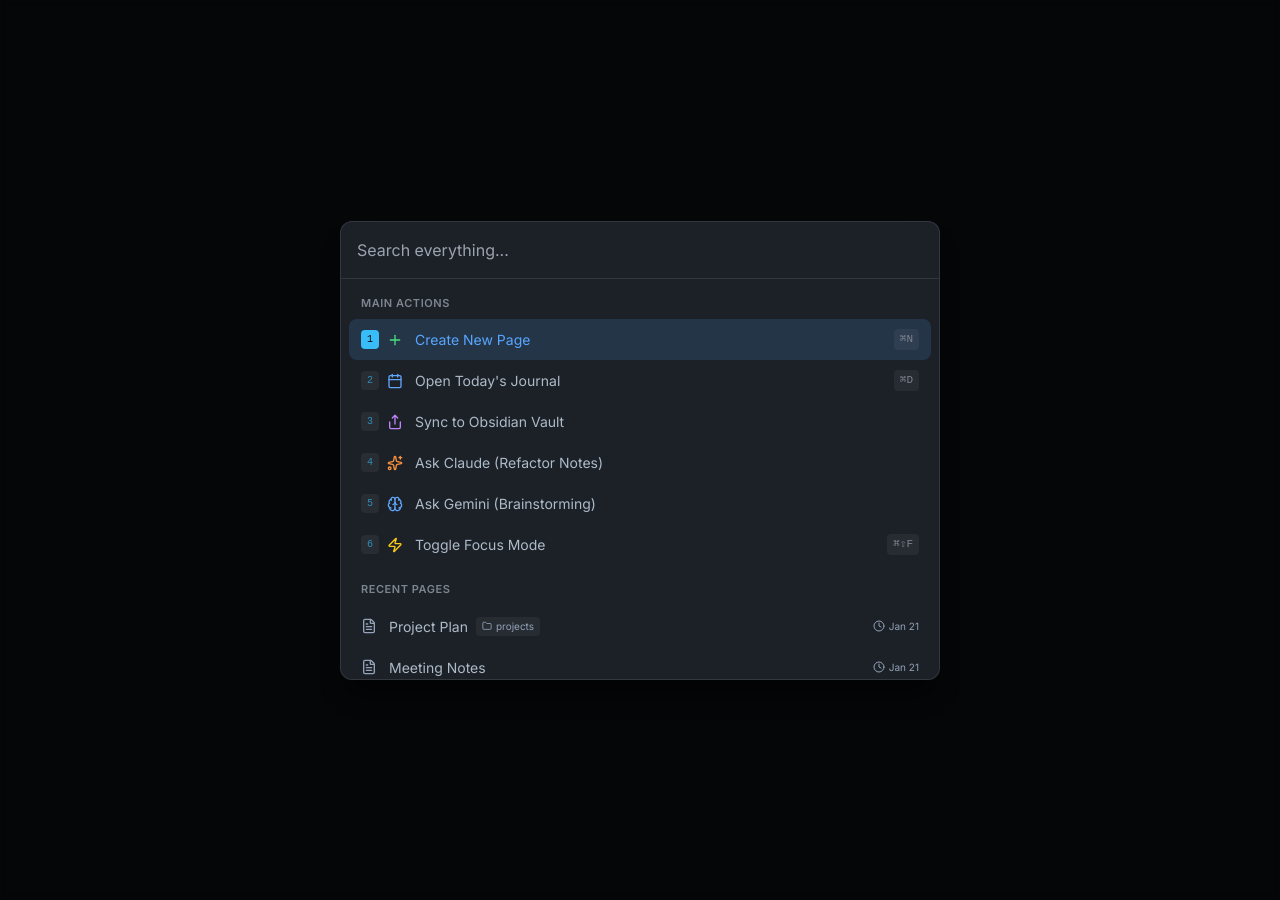
Test: CommandPalette Component › Search Input › shows "No results found" for non-matching search
Type "xyznonexistent" into the dropdown with placeholder "Search everything..." at (640, 250), box [341,222,939,278]
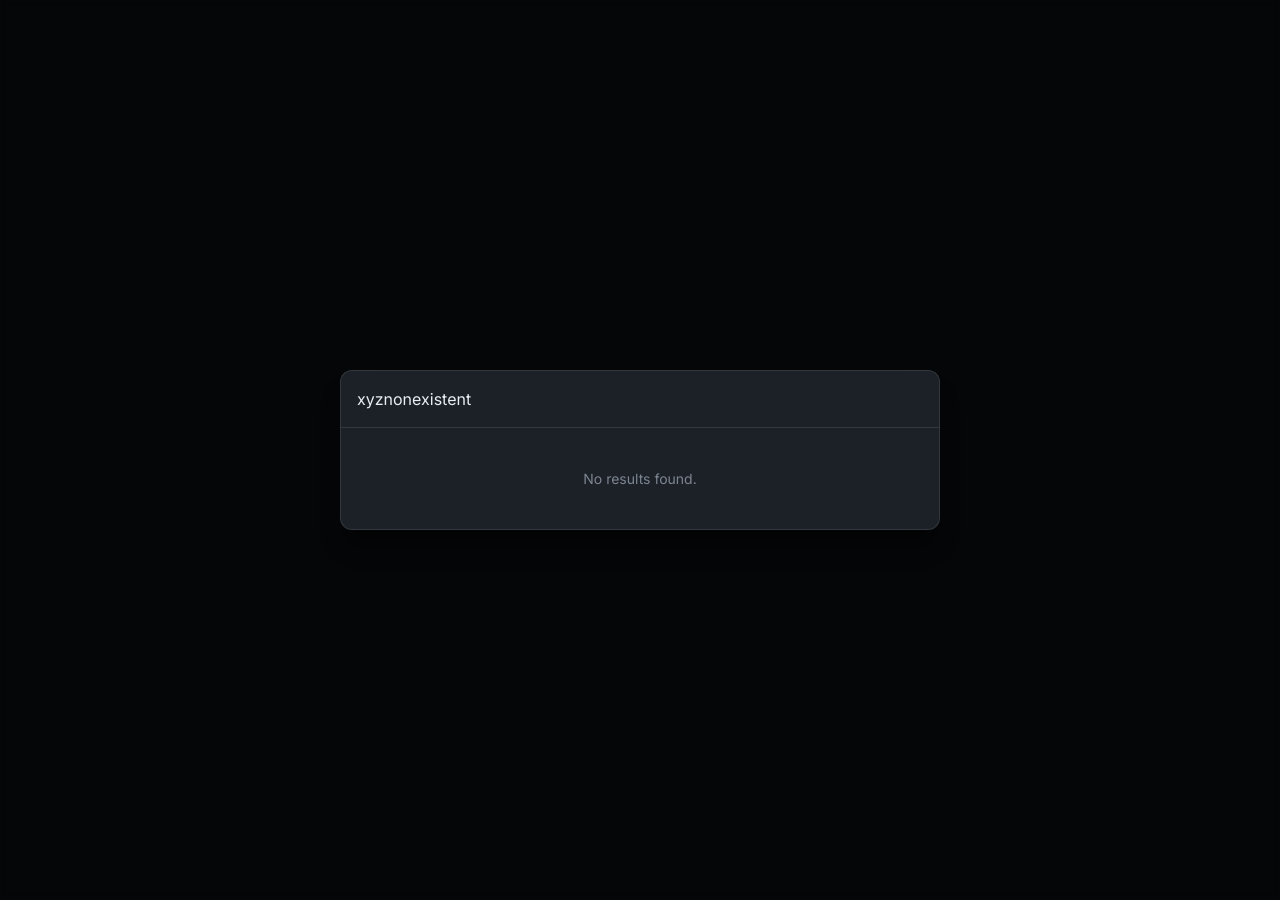
Now the text "No results found." is shown, box [583,470,697,487]
